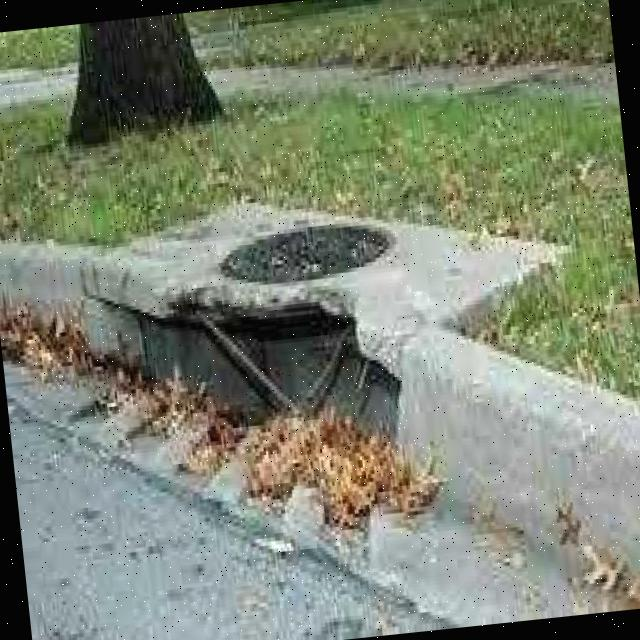curb: (242, 257, 640, 635), (1, 213, 246, 473)
